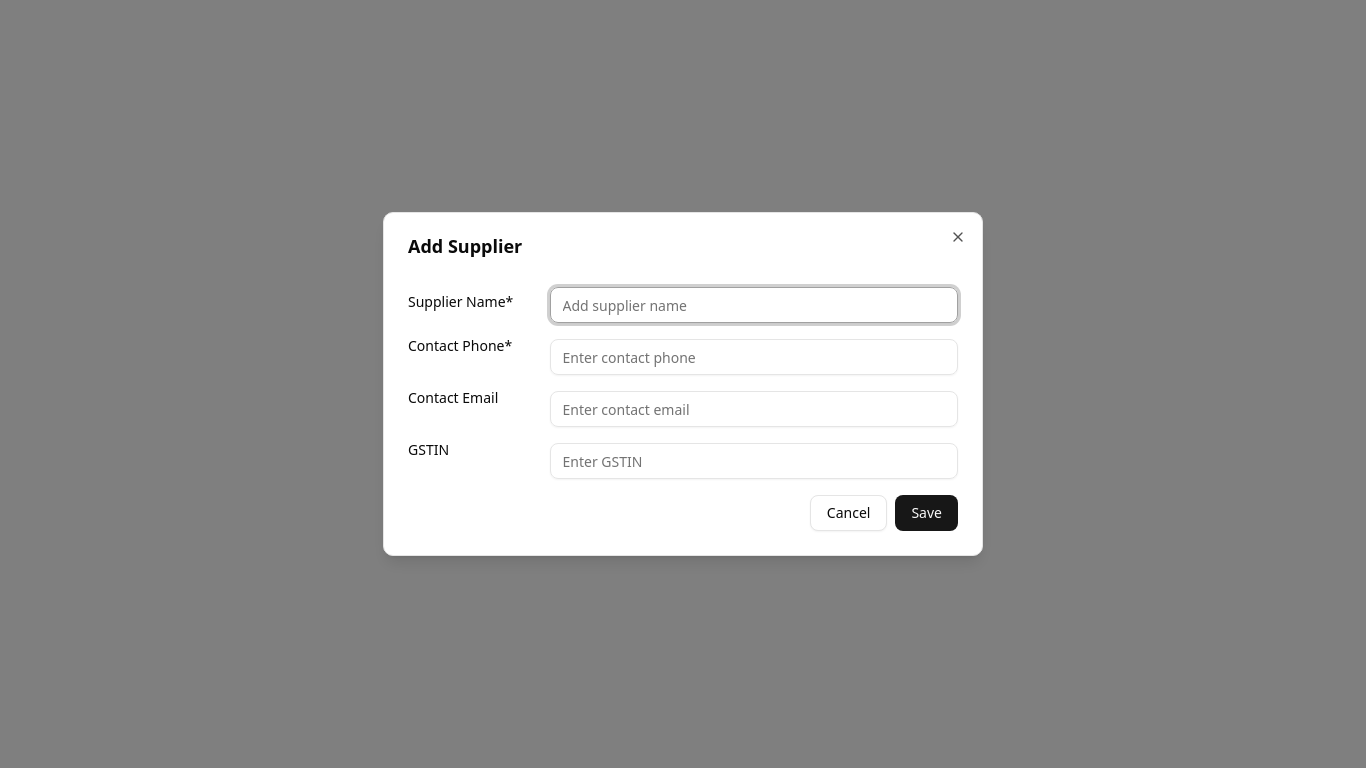
Scenario: AddSupplierDialog › blocks submission on client-side validation
Type "Acme Papers" into the field with placeholder "Add supplier name" at (754, 305), box x1=550 y1=287 x2=958 y2=323
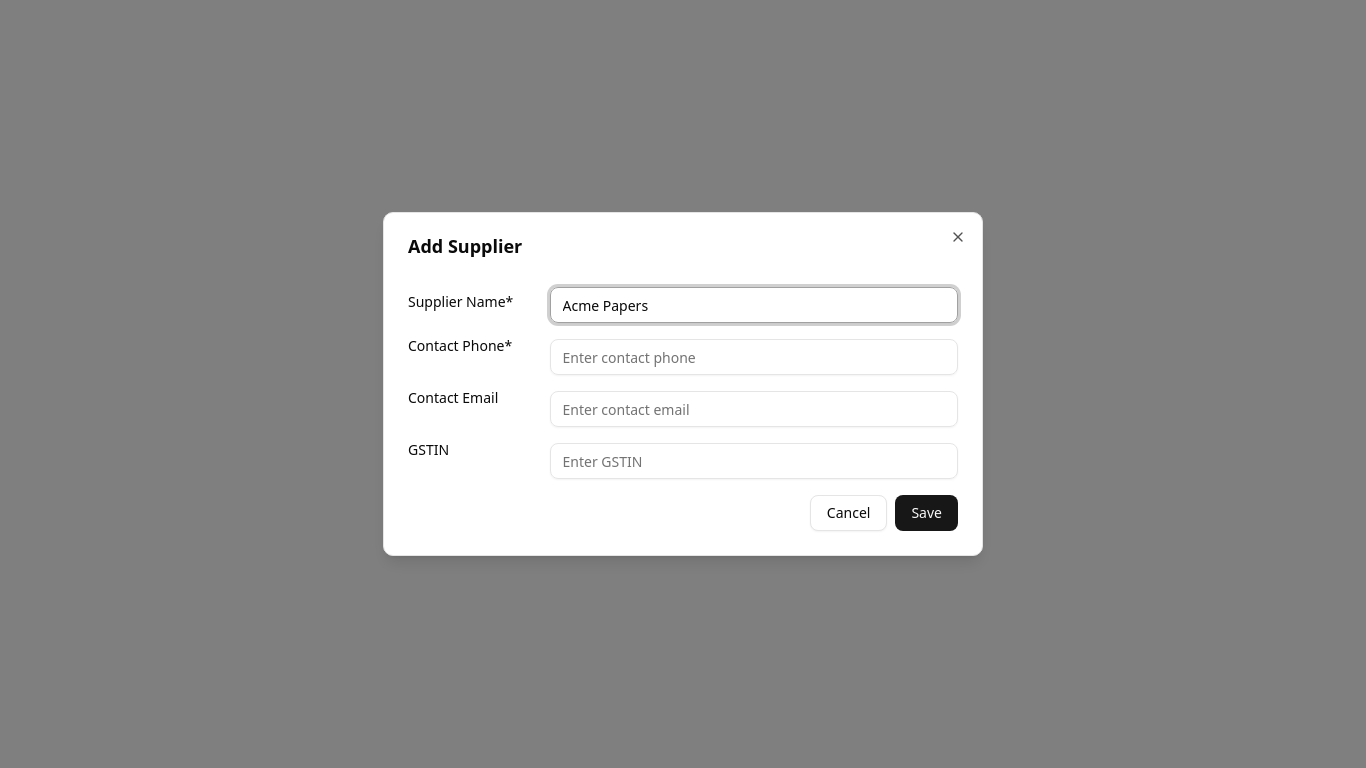
Type "12345" into the field with placeholder "Enter contact phone" at (754, 357), box x1=550 y1=339 x2=958 y2=375
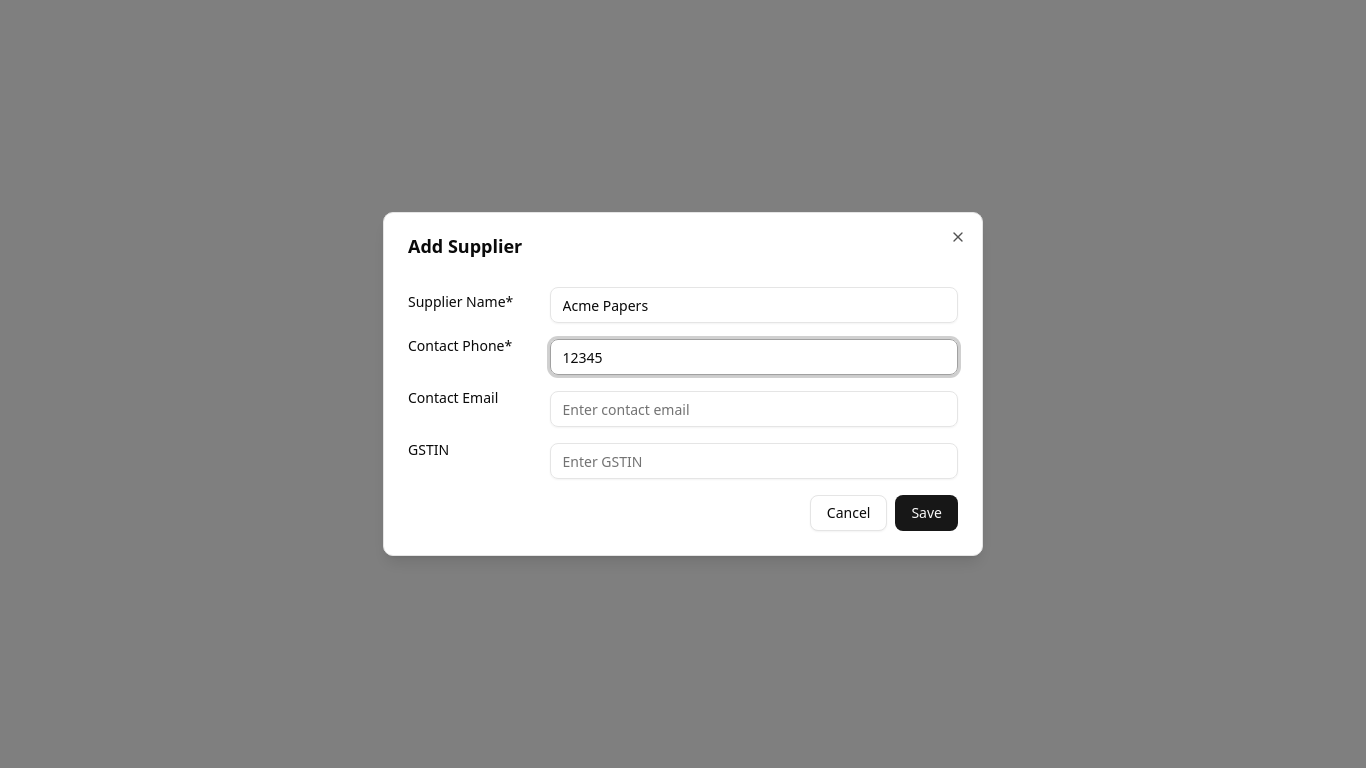
Click the button "Save" at (927, 513), box x1=895 y1=495 x2=958 y2=531
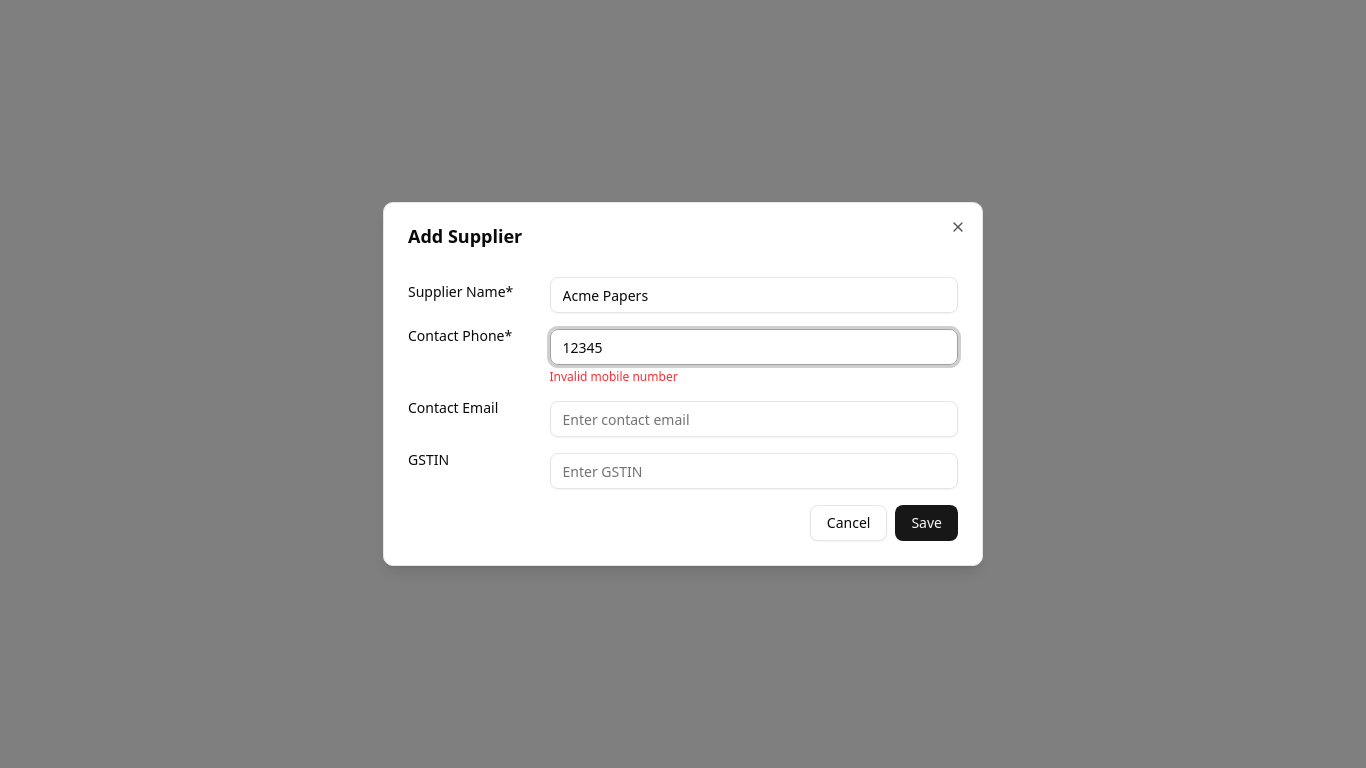
Result: the text "Invalid mobile number" is shown at x1=550 y1=368 x2=678 y2=385
